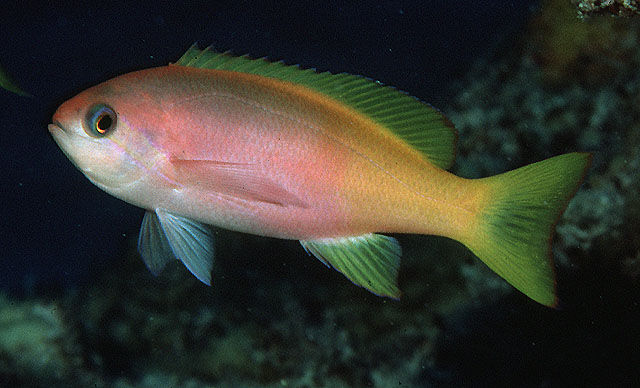fish: (47, 41, 592, 309)
